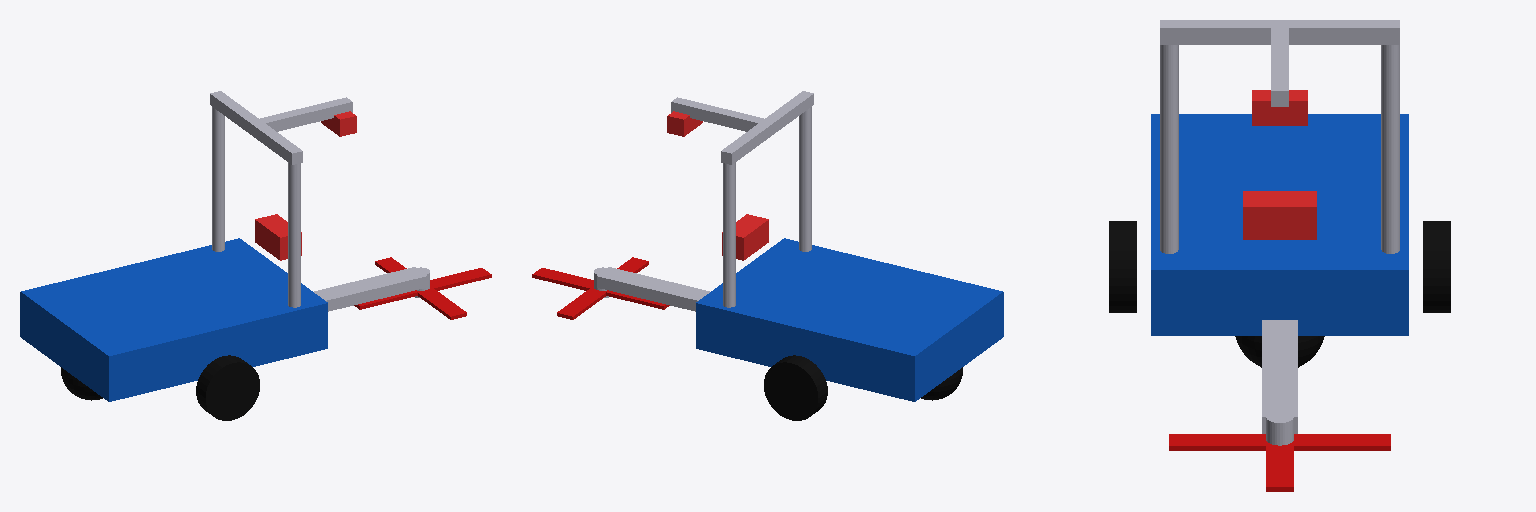
URDF robot description (camera_droid):
<?xml version="1.0"?>
<robot name="camera_droid">

  <material name="body"><color rgba="0.10 0.40 0.80 1"/></material>
  <material name="wheel"><color rgba="0.10 0.10 0.10 1"/></material>
  <material name="cam"><color rgba="0.90 0.20 0.20 1"/></material>

  <!-- Chassis (base_link sits on the ground, between the drive wheels) -->
  <link name="base_link">
    <inertial>
      <origin xyz="0 0 0.10"/>
      <mass value="5.0"/>
      <inertia ixx="0.05" ixy="0" ixz="0" iyy="0.08" iyz="0" izz="0.10"/>
    </inertial>
    <visual>
      <origin xyz="0 0 0.10"/>
      <geometry><box size="0.40 0.28 0.08"/></geometry>
      <material name="body"/>
    </visual>
    <collision>
      <origin xyz="0 0 0.10"/>
      <geometry><box size="0.40 0.28 0.08"/></geometry>
    </collision>
  </link>

  <!-- Drive wheels -->
  <link name="left_wheel">
    <inertial>
      <mass value="0.4"/>
      <inertia ixx="0.0005" ixy="0" ixz="0" iyy="0.0005" iyz="0" izz="0.0008"/>
    </inertial>
    <visual>
      <origin rpy="1.5708 0 0"/>
      <geometry><cylinder radius="0.05" length="0.03"/></geometry>
      <material name="wheel"/>
    </visual>
    <collision>
      <origin rpy="1.5708 0 0"/>
      <geometry><cylinder radius="0.05" length="0.03"/></geometry>
    </collision>
  </link>
  <joint name="left_wheel_joint" type="continuous">
    <parent link="base_link"/>
    <child link="left_wheel"/>
    <origin xyz="0 0.17 0.05"/>
    <axis xyz="0 1 0"/>
  </joint>

  <link name="right_wheel">
    <inertial>
      <mass value="0.4"/>
      <inertia ixx="0.0005" ixy="0" ixz="0" iyy="0.0005" iyz="0" izz="0.0008"/>
    </inertial>
    <visual>
      <origin rpy="1.5708 0 0"/>
      <geometry><cylinder radius="0.05" length="0.03"/></geometry>
      <material name="wheel"/>
    </visual>
    <collision>
      <origin rpy="1.5708 0 0"/>
      <geometry><cylinder radius="0.05" length="0.03"/></geometry>
    </collision>
  </link>
  <joint name="right_wheel_joint" type="continuous">
    <parent link="base_link"/>
    <child link="right_wheel"/>
    <origin xyz="0 -0.17 0.05"/>
    <axis xyz="0 1 0"/>
  </joint>

  <!-- Frictionless casters -->
  <link name="caster_front">
    <inertial><mass value="0.1"/><inertia ixx="0.0001" ixy="0" ixz="0" iyy="0.0001" iyz="0" izz="0.0001"/></inertial>
    <visual><geometry><sphere radius="0.05"/></geometry><material name="wheel"/></visual>
    <collision><geometry><sphere radius="0.05"/></geometry></collision>
  </link>
  <joint name="caster_front_joint" type="fixed">
    <parent link="base_link"/>
    <child link="caster_front"/>
    <origin xyz="0.15 0 0.05"/>
  </joint>

  <link name="caster_rear">
    <inertial><mass value="0.1"/><inertia ixx="0.0001" ixy="0" ixz="0" iyy="0.0001" iyz="0" izz="0.0001"/></inertial>
    <visual><geometry><sphere radius="0.05"/></geometry><material name="wheel"/></visual>
    <collision><geometry><sphere radius="0.05"/></geometry></collision>
  </link>
  <joint name="caster_rear_joint" type="fixed">
    <parent link="base_link"/>
    <child link="caster_rear"/>
    <origin xyz="-0.15 0 0.05"/>
  </joint>

  <!-- Camera on the front of the chassis (looks along +X) -->
  <link name="camera_link">
    <inertial><mass value="0.05"/><inertia ixx="0.0001" ixy="0" ixz="0" iyy="0.0001" iyz="0" izz="0.0001"/></inertial>
    <visual>
      <geometry><box size="0.04 0.08 0.04"/></geometry>
      <material name="cam"/>
    </visual>
  </link>
  <joint name="camera_joint" type="fixed">
    <parent link="base_link"/>
    <child link="camera_link"/>
    <origin xyz="0.19 0 0.20"/>
  </joint>


  <!-- ===== Weed-cutting module ===== -->
  <material name="metal"><color rgba="0.75 0.75 0.80 1"/></material>
  <material name="blade"><color rgba="0.85 0.10 0.10 1"/></material>

  <!-- Gantry: two posts on the chassis, a crossbar and a boom that holds the ground camera -->
  <link name="gantry">
    <inertial>
      <origin xyz="0.15 0 0.30"/>
      <mass value="0.3"/>
      <inertia ixx="0.002" ixy="0" ixz="0" iyy="0.002" iyz="0" izz="0.002"/>
    </inertial>
    <visual name="post_left">
      <origin xyz="0.15 0.12 0.27"/>
      <geometry><cylinder radius="0.01" length="0.26"/></geometry>
      <material name="metal"/>
    </visual>
    <visual name="post_right">
      <origin xyz="0.15 -0.12 0.27"/>
      <geometry><cylinder radius="0.01" length="0.26"/></geometry>
      <material name="metal"/>
    </visual>
    <visual name="crossbar">
      <origin xyz="0.15 0 0.40"/>
      <geometry><box size="0.02 0.26 0.02"/></geometry>
      <material name="metal"/>
    </visual>
    <visual name="boom">
      <origin xyz="0.235 0 0.40"/>
      <geometry><box size="0.17 0.02 0.02"/></geometry>
      <material name="metal"/>
    </visual>
  </link>
  <joint name="gantry_joint" type="fixed">
    <parent link="base_link"/>
    <child link="gantry"/>
    <origin xyz="0 0 0"/>
  </joint>

  <!-- Downward-facing weed camera. Image "up" = robot forward, image "right" = robot right. -->
  <link name="ground_camera_link">
    <inertial>
      <mass value="0.05"/>
      <inertia ixx="0.0001" ixy="0" ixz="0" iyy="0.0001" iyz="0" izz="0.0001"/>
    </inertial>
    <visual>
      <geometry><box size="0.03 0.06 0.03"/></geometry>
      <material name="cam"/>
    </visual>
  </link>
  <joint name="ground_camera_joint" type="fixed">
    <parent link="base_link"/>
    <child link="ground_camera_link"/>
    <origin xyz="0.30 0 0.38" rpy="0 1.5708 0"/>
  </joint>

  <!-- Cutter arm reaching out in front of the chassis -->
  <link name="cutter_arm">
    <inertial>
      <origin xyz="0.325 0 0.07"/>
      <mass value="0.2"/>
      <inertia ixx="0.0005" ixy="0" ixz="0" iyy="0.0005" iyz="0" izz="0.0005"/>
    </inertial>
    <visual name="arm">
      <origin xyz="0.325 0 0.07"/>
      <geometry><box size="0.25 0.04 0.02"/></geometry>
      <material name="metal"/>
    </visual>
    <visual name="hub">
      <origin xyz="0.45 0 0.06"/>
      <geometry><cylinder radius="0.015" length="0.04"/></geometry>
      <material name="metal"/>
    </visual>
  </link>
  <joint name="cutter_arm_joint" type="fixed">
    <parent link="base_link"/>
    <child link="cutter_arm"/>
    <origin xyz="0 0 0"/>
  </joint>

  <!-- Spinning blade (visual only; weeds are removed by the patrol node when the blade is over them) -->
  <link name="blade">
    <inertial>
      <mass value="0.1"/>
      <inertia ixx="0.0005" ixy="0" ixz="0" iyy="0.0005" iyz="0" izz="0.001"/>
    </inertial>
    <visual name="bar_a">
      <geometry><box size="0.24 0.03 0.006"/></geometry>
      <material name="blade"/>
    </visual>
    <visual name="bar_b">
      <origin rpy="0 0 1.5708"/>
      <geometry><box size="0.24 0.03 0.006"/></geometry>
      <material name="blade"/>
    </visual>
  </link>
  <joint name="blade_spin_joint" type="continuous">
    <parent link="base_link"/>
    <child link="blade"/>
    <origin xyz="0.45 0 0.05"/>
    <axis xyz="0 0 1"/>
    <dynamics damping="0.01"/>
  </joint>

  <!-- ===== Gazebo (Harmonic) ===== -->
  <gazebo reference="caster_front"><mu1>0.0</mu1><mu2>0.0</mu2></gazebo>
  <gazebo reference="caster_rear"><mu1>0.0</mu1><mu2>0.0</mu2></gazebo>
  <gazebo reference="left_wheel"><mu1>1.0</mu1><mu2>1.0</mu2></gazebo>
  <gazebo reference="right_wheel"><mu1>1.0</mu1><mu2>1.0</mu2></gazebo>

  <gazebo reference="camera_link">
    <sensor name="camera" type="camera">
      <always_on>true</always_on>
      <update_rate>10</update_rate>
      <topic>/camera/image_raw</topic>
      <camera>
        <horizontal_fov>1.047</horizontal_fov>
        <image>
          <width>640</width>
          <height>480</height>
          <format>R8G8B8</format>
        </image>
        <clip><near>0.05</near><far>20</far></clip>
      </camera>
    </sensor>
  </gazebo>

  <gazebo>
    <plugin filename="gz-sim-diff-drive-system" name="gz::sim::systems::DiffDrive">
      <left_joint>left_wheel_joint</left_joint>
      <right_joint>right_wheel_joint</right_joint>
      <wheel_separation>0.34</wheel_separation>
      <wheel_radius>0.05</wheel_radius>
      <max_linear_acceleration>1.0</max_linear_acceleration>
      <topic>/cmd_vel</topic>
      <odom_topic>/odom</odom_topic>
      <tf_topic>/tf</tf_topic>
      <frame_id>odom</frame_id>
      <child_frame_id>base_link</child_frame_id>
      <odom_publisher_frequency>30</odom_publisher_frequency>
    </plugin>
    <plugin filename="gz-sim-joint-state-publisher-system" name="gz::sim::systems::JointStatePublisher">
      <topic>/joint_states</topic>
    </plugin>
  </gazebo>

  <!-- Ground (weed) camera -->
  <gazebo reference="ground_camera_link">
    <sensor name="ground_camera" type="camera">
      <always_on>true</always_on>
      <update_rate>10</update_rate>
      <topic>/ground_camera/image_raw</topic>
      <camera>
        <horizontal_fov>1.5708</horizontal_fov>
        <image>
          <width>640</width>
          <height>480</height>
          <format>R8G8B8</format>
        </image>
        <clip><near>0.05</near><far>5</far></clip>
      </camera>
    </sensor>
  </gazebo>

  <!-- Blade motor: publish a gz.msgs.Double (rad/s) on /blade/spin -->
  <gazebo>
    <plugin filename="gz-sim-joint-controller-system" name="gz::sim::systems::JointController">
      <joint_name>blade_spin_joint</joint_name>
      <topic>/blade/spin</topic>
    </plugin>
  </gazebo>

</robot>

--- Render facts (derived) ---
Views: 3 orthographic renders of the robot side by side, from view 1: azimuth 30°, elevation 25°; view 2: azimuth 150°, elevation 25°; view 3: azimuth 270°, elevation 25°.
Model camera_droid with 10 links and 9 joints (3 continuous, 6 fixed), rooted at base_link, posed all joints at 0.
Links seen in each view (by area): view 1: base_link, gantry, right_wheel, cutter_arm, blade, camera_link, ground_camera_link, caster_rear; view 2: base_link, gantry, left_wheel, cutter_arm, blade, camera_link, ground_camera_link, caster_rear; view 3: base_link, gantry, blade, cutter_arm, camera_link, left_wheel, right_wheel, ground_camera_link, caster_front.
Link boxes in pixels (x1,y1,x2,y2): base_link: [20, 238, 327, 401]; gantry: [210, 91, 352, 307]; right_wheel: [196, 355, 259, 420]; cutter_arm: [314, 267, 429, 311]; blade: [354, 257, 491, 319]; camera_link: [255, 214, 301, 260]; ground_camera_link: [321, 111, 356, 136]; caster_rear: [61, 367, 102, 400]; base_link: [696, 238, 1003, 401]; gantry: [671, 91, 813, 307]; left_wheel: [764, 355, 827, 420]; cutter_arm: [594, 267, 709, 311]; blade: [532, 257, 669, 319]; camera_link: [722, 214, 768, 260]; ground_camera_link: [667, 111, 702, 136]; caster_rear: [921, 367, 962, 400]; base_link: [1151, 114, 1408, 335]; gantry: [1160, 20, 1399, 253]; blade: [1169, 434, 1390, 491]; cutter_arm: [1262, 320, 1297, 445]; camera_link: [1243, 191, 1316, 239]; left_wheel: [1423, 221, 1450, 312]; right_wheel: [1109, 221, 1136, 312]; ground_camera_link: [1252, 90, 1307, 125]; caster_front: [1235, 336, 1324, 367].
Bounding box of the posed robot: 0.77 × 0.37 × 0.41 m (x, y, z).
Geometry: primitives only (box / cylinder / sphere), no mesh files.
